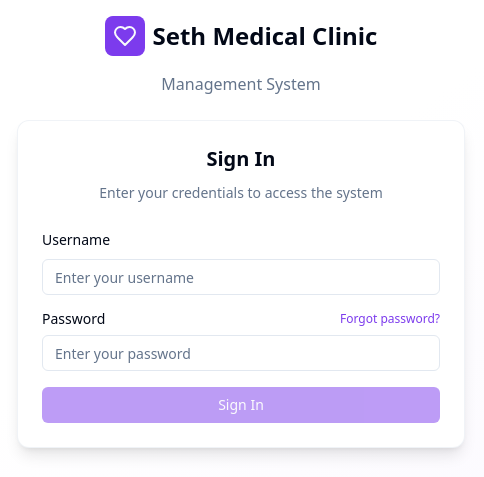
Test: Login Page › shows loading state while signing in
Type "admin" into the field with placeholder "Enter your username" at (241,277), box [42, 259, 440, 295]
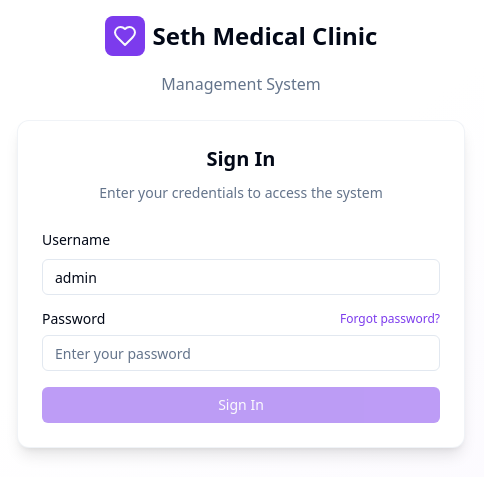
Type "admin123" into the password field with placeholder "Enter your password" at (241,353), box [42, 335, 440, 371]
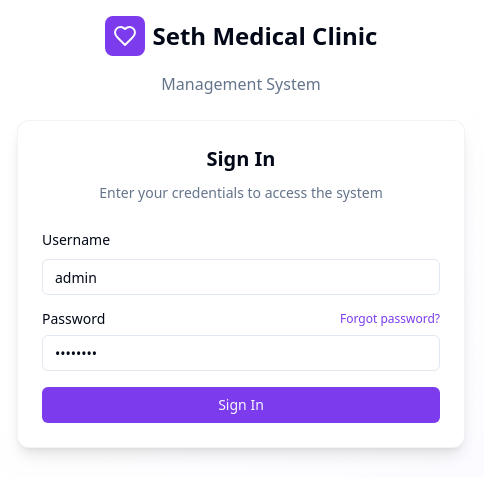
Click the button "Sign In" at (241,405), box [42, 387, 440, 423]
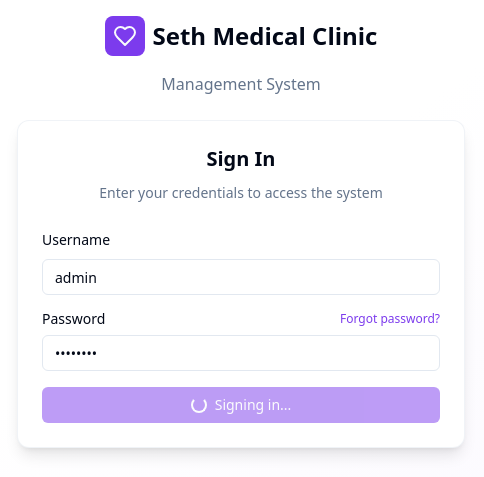
expect the text "Signing in..." is shown: met, box [215, 395, 291, 415]
